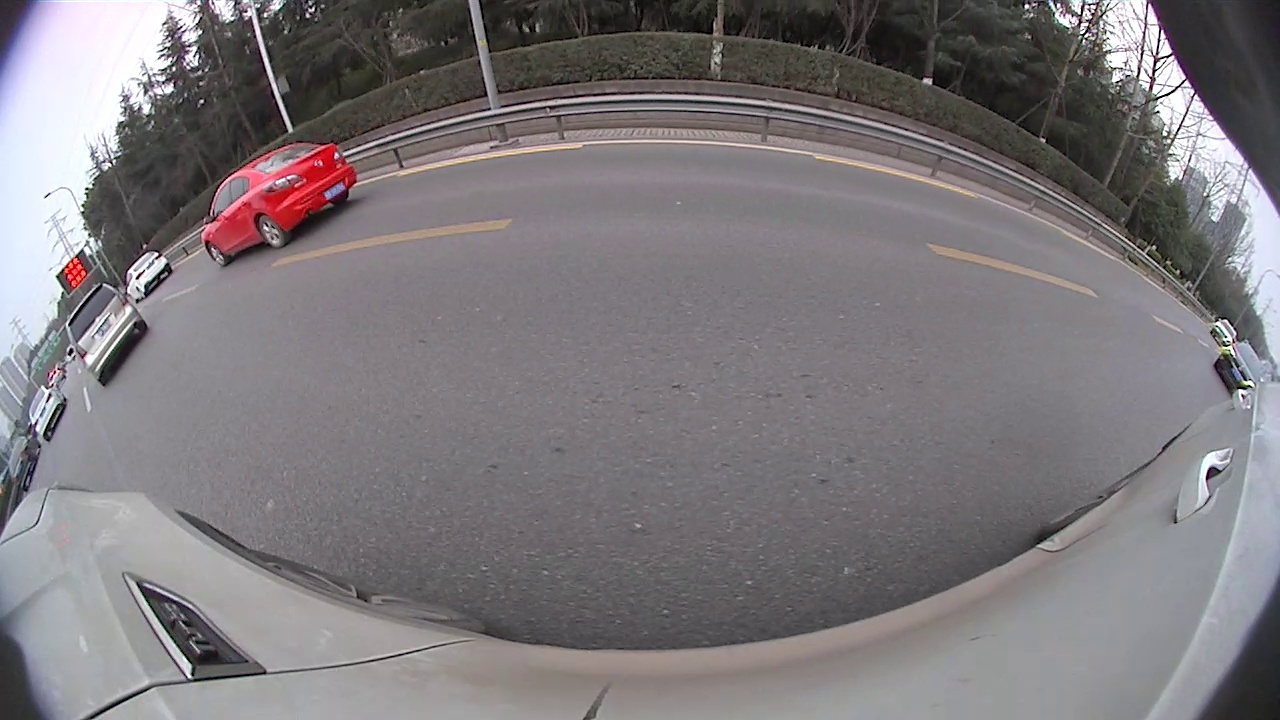bus: (845, 130, 1170, 241)
car: (985, 194, 1279, 441), (1, 225, 241, 473), (594, 139, 694, 216), (452, 153, 550, 220), (726, 159, 782, 194), (793, 166, 845, 198)
front: (124, 304, 233, 428), (1001, 248, 1069, 330), (876, 186, 900, 216), (542, 183, 554, 203)
rear: (513, 184, 529, 213)
